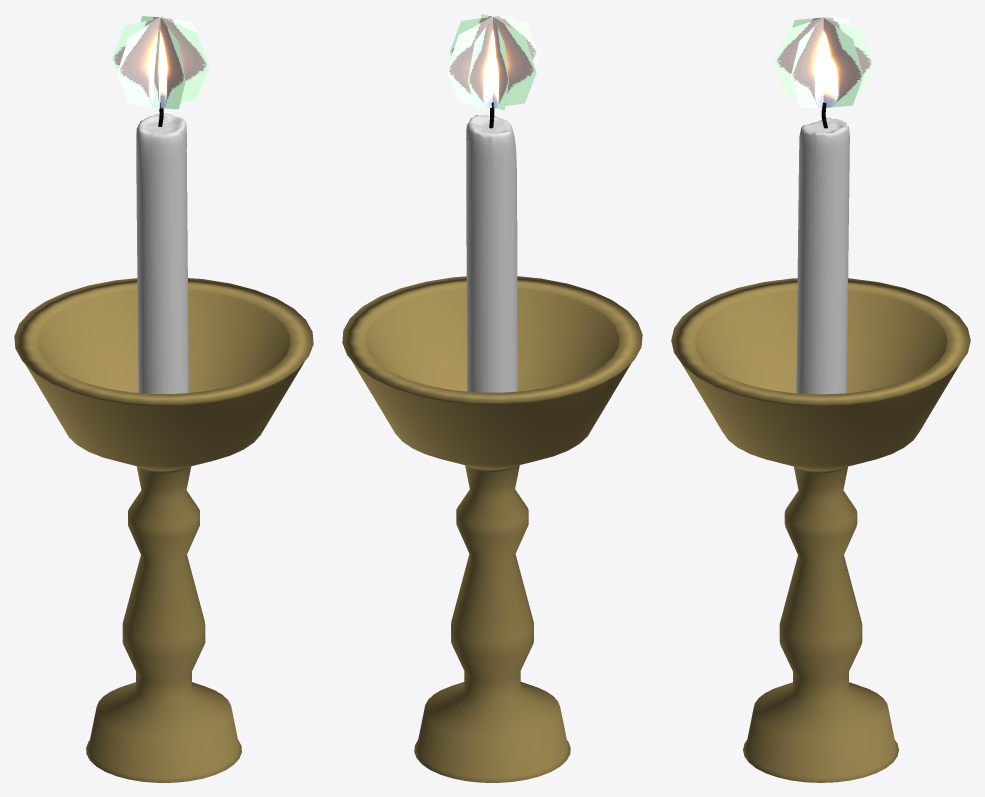
The model's file is candle.glb.
3 renders of one model, left to right at view 1: azimuth 30°, elevation 25°; view 2: azimuth 150°, elevation 25°; view 3: azimuth 270°, elevation 25°, orthographic.
Visible parts, largest first — view 1: Candle Base, Candle, Fire; view 2: Candle Base, Candle, Fire; view 3: Candle Base, Candle, Fire.
Boxes of the visible parts, x1=… form: Candle Base: x1=14, y1=278, x2=313, y2=782; Candle: x1=136, y1=113, x2=188, y2=393; Fire: x1=111, y1=14, x2=209, y2=110; Candle Base: x1=342, y1=276, x2=642, y2=782; Candle: x1=466, y1=115, x2=517, y2=392; Fire: x1=446, y1=14, x2=539, y2=110; Candle Base: x1=671, y1=278, x2=970, y2=782; Candle: x1=796, y1=117, x2=849, y2=394; Fire: x1=773, y1=17, x2=873, y2=108.
Size of the model in its own units: 2.57 by 6.92 by 2.57.
